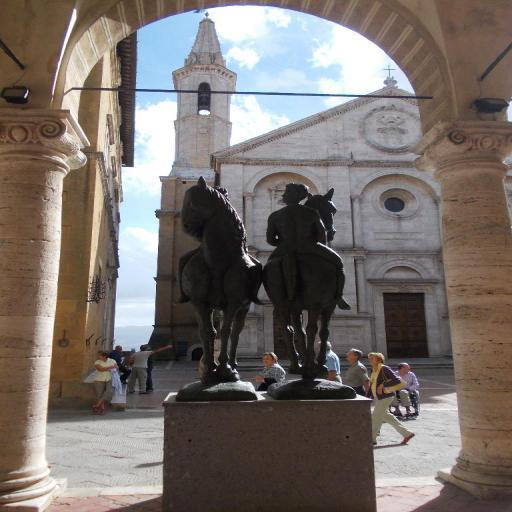Horse: (178, 174, 268, 386), (265, 188, 344, 378)
